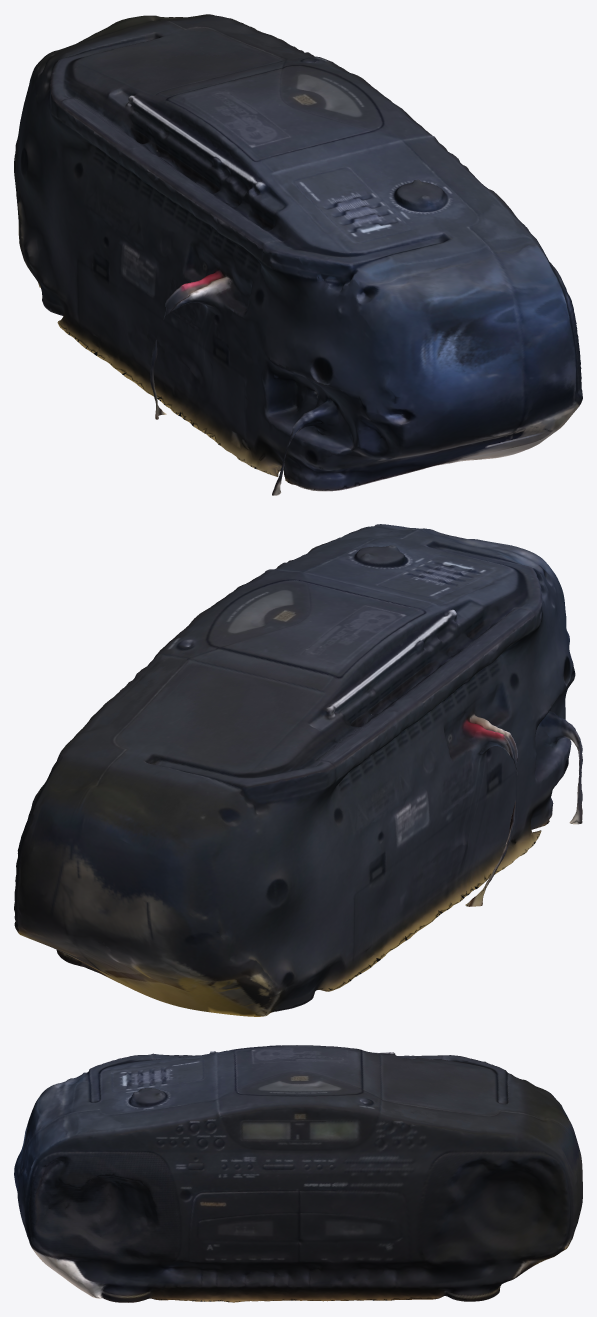
File: radiozao.glb
3 renders of one model, top to bottom at view 1: azimuth 30°, elevation 25°; view 2: azimuth 150°, elevation 25°; view 3: azimuth 270°, elevation 25°, orthographic. The views are drawn at different scales.
Visible parts, largest first — view 1: radiozao; view 2: radiozao; view 3: radiozao.
Boxes of the visible parts, bbox=[...] form: radiozao: bbox=[14, 14, 582, 495]; radiozao: bbox=[14, 524, 582, 1016]; radiozao: bbox=[14, 1045, 582, 1302].
Size of the model in its own units: 0.2891 by 0.2413 by 0.6576.
Materials: 1 (1 with a texture image).
